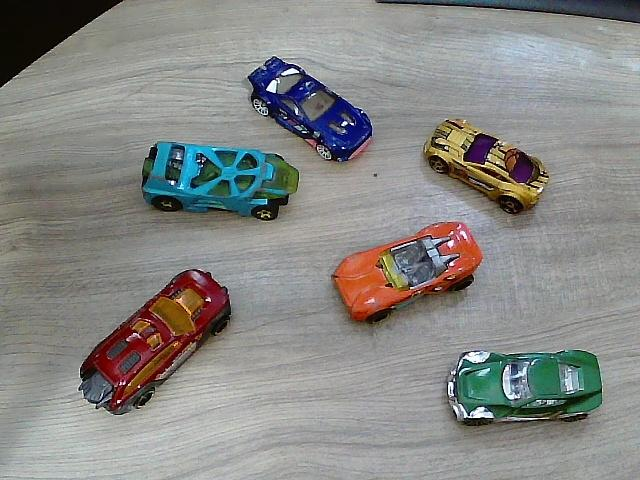Carro: (80, 269, 231, 415), (332, 223, 483, 322), (247, 57, 374, 163), (139, 142, 302, 223), (424, 120, 549, 215), (446, 350, 604, 425)
